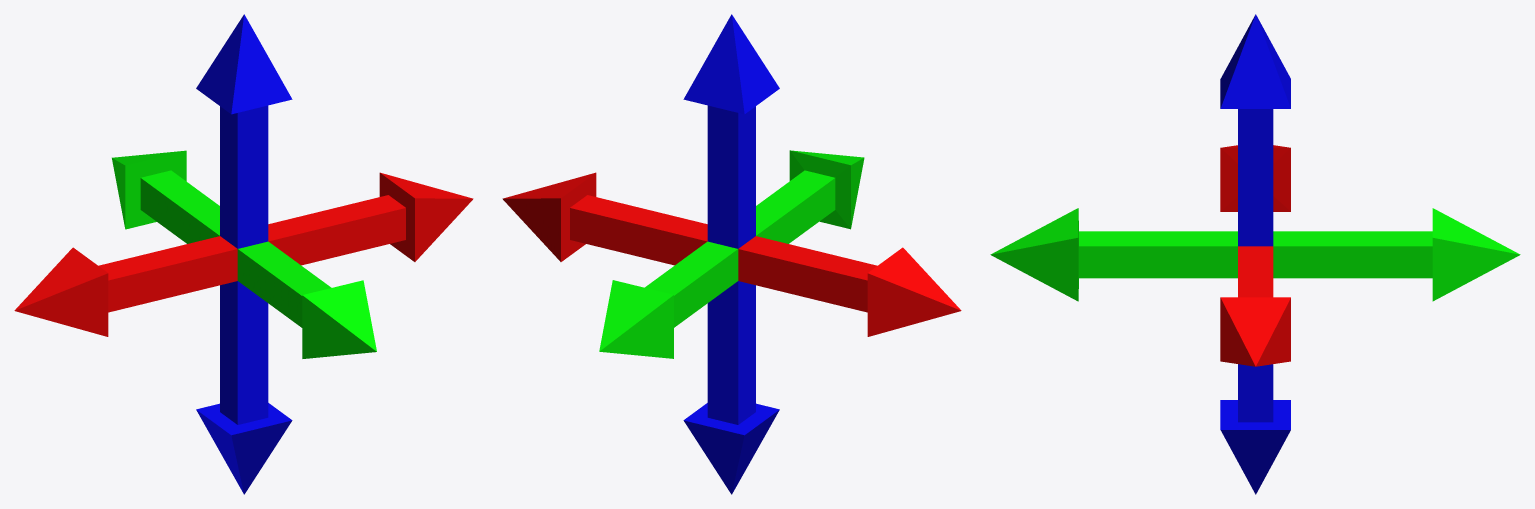
File: WorldDirection.glb
3 views of the same model, side by side, from view 1: azimuth 30°, elevation 25°; view 2: azimuth 150°, elevation 25°; view 3: azimuth 270°, elevation 25° (orthographic).
Visible parts, largest first — view 1: WorldDirection; view 2: WorldDirection; view 3: WorldDirection.
Boxes of the visible parts, x1,y1,x2,y2 form: WorldDirection: (14, 14, 473, 494); WorldDirection: (502, 14, 961, 494); WorldDirection: (990, 14, 1520, 494).
Bounding box in the file's own units: 6.01 × 6.01 × 6.01.
